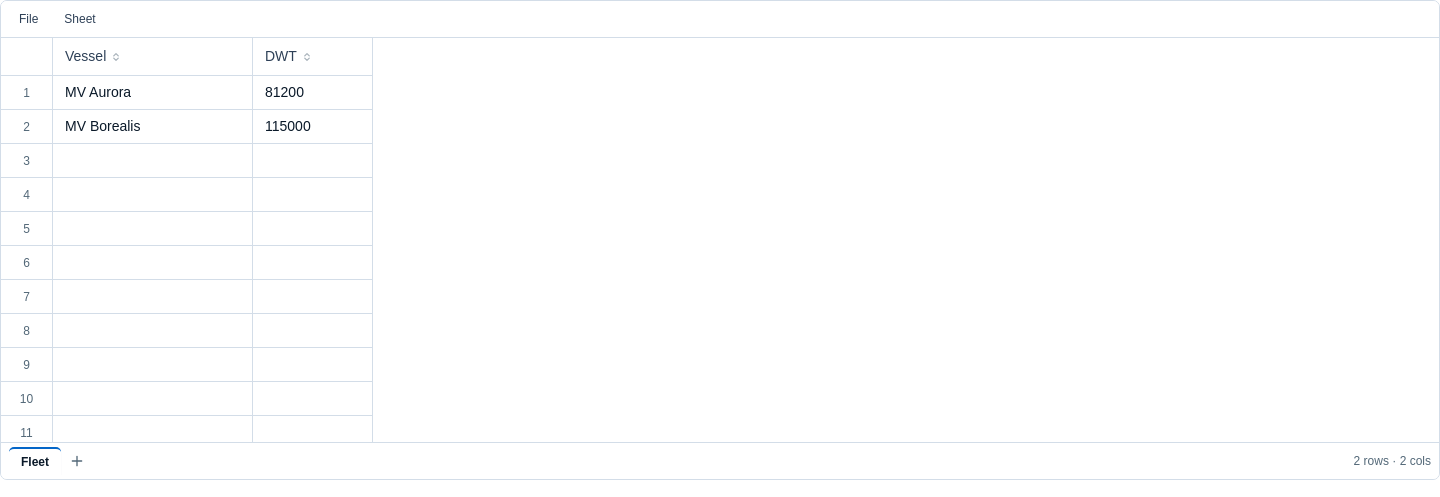
Scenario: Spreadsheet › renames a column by editing its header
Double-click the column heading "Vessel": (153, 57) [53, 38, 253, 76]
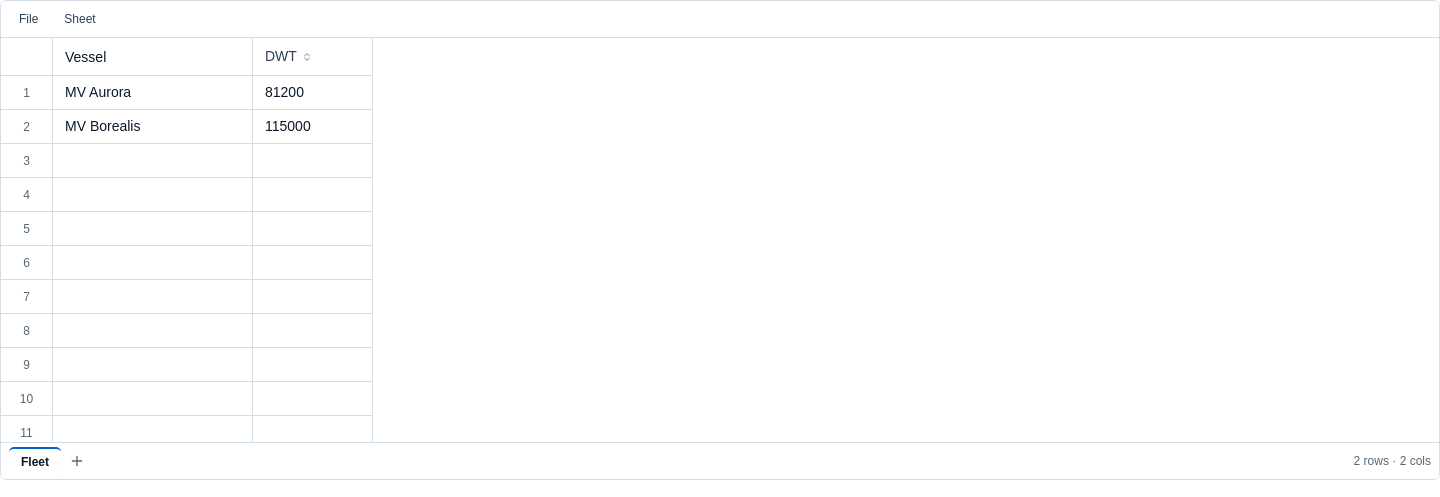
Replace the text in the field with "Ship": (152, 56) [65, 38, 240, 75]
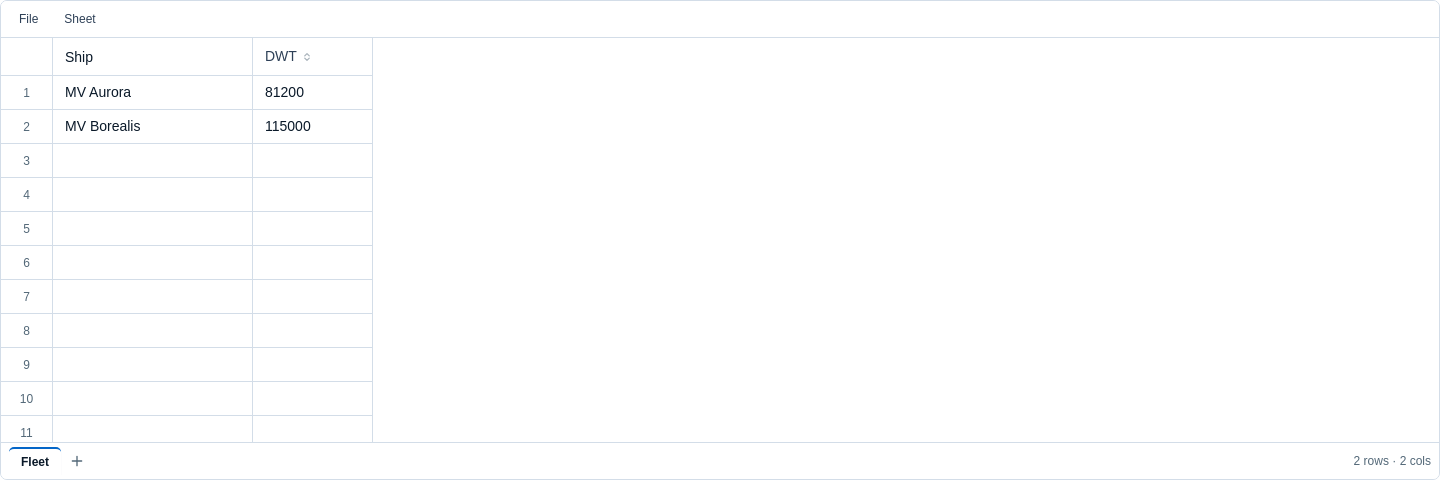
Press Enter in the field, box [65, 38, 240, 75]
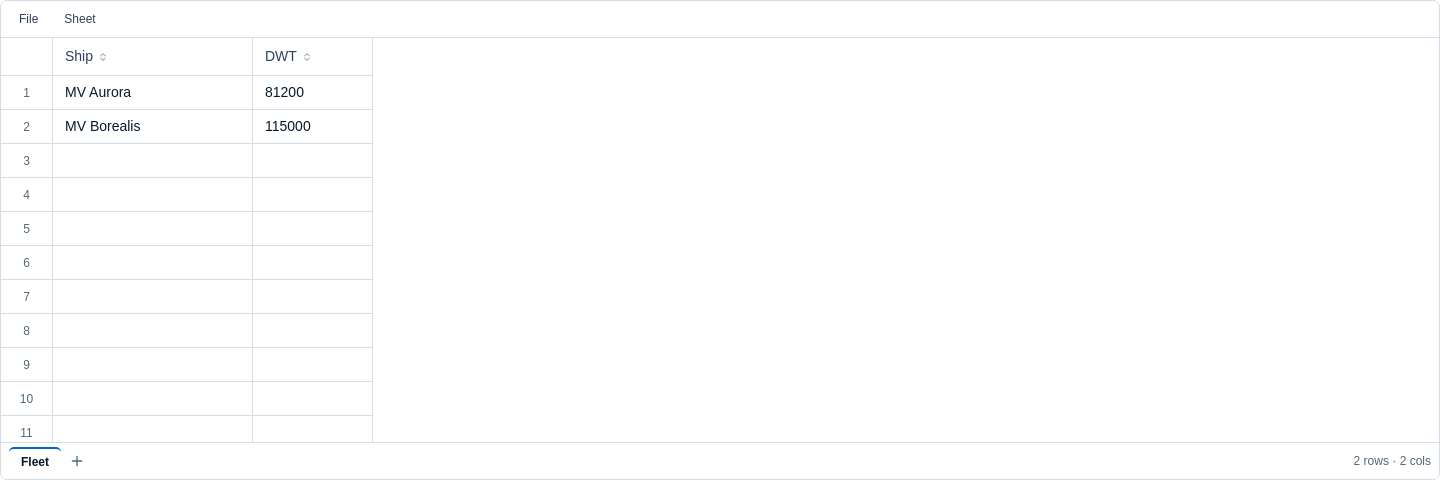
Expected: the column heading "Ship" is shown, [53, 38, 253, 76]
